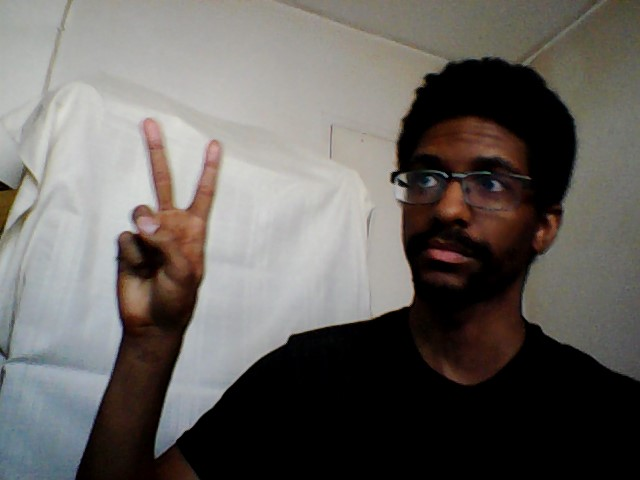v: (110, 115, 227, 322)
